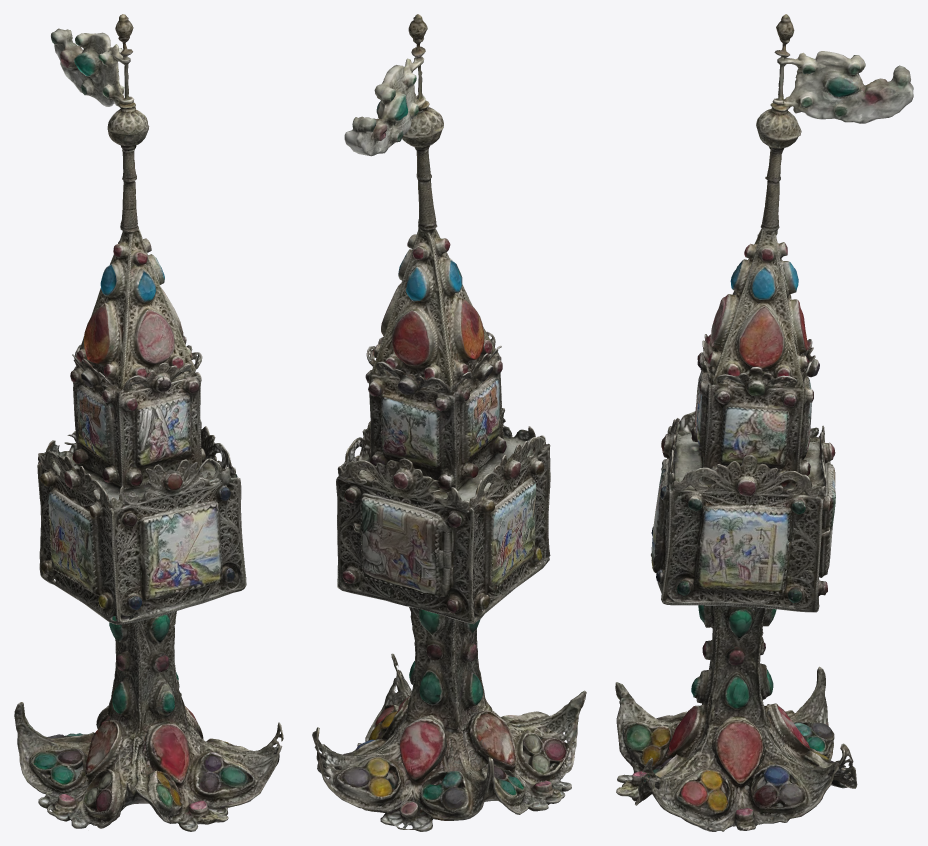
3 views of the same model, side by side, from view 1: azimuth 30°, elevation 25°; view 2: azimuth 150°, elevation 25°; view 3: azimuth 270°, elevation 25° (orthographic). The views are drawn at different scales.
Parts seen in each view (by area): view 1: spice_tower; view 2: spice_tower; view 3: spice_tower.
Boxes of the visible parts, x1,y1,x2,y2 form: spice_tower: [14, 14, 283, 831]; spice_tower: [312, 14, 586, 831]; spice_tower: [615, 14, 913, 831].
Size of the model in its own units: 0.0638 by 0.2295 by 0.0803.
Materials: 1 (1 with a texture image).
